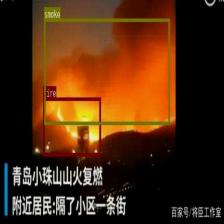fire: (43, 97, 101, 155)
smoke: (44, 18, 170, 124)
